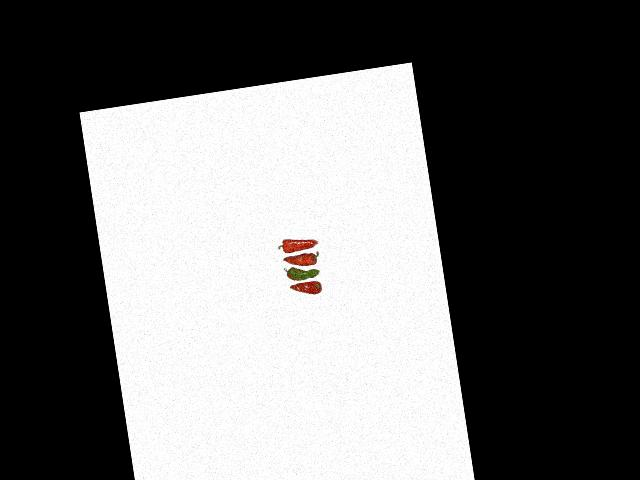bell_pepper: (286, 278, 324, 302)
